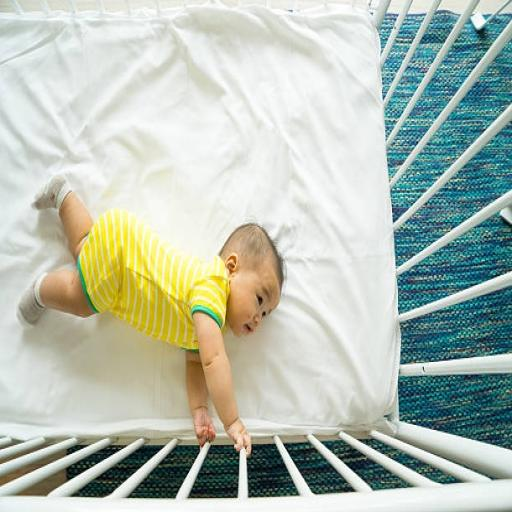baby: (18, 176, 284, 455)
crib: (0, 2, 511, 510)
